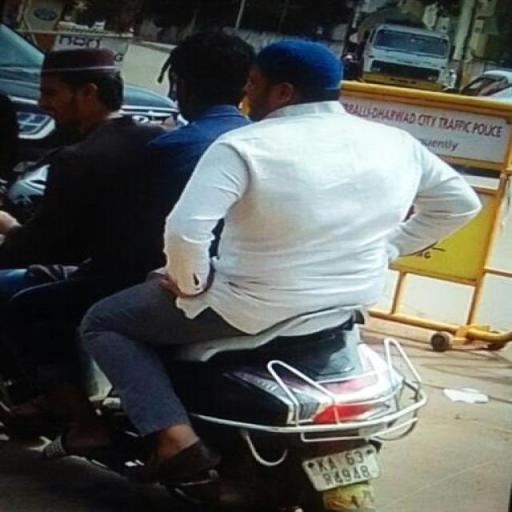tripple riding: (3, 30, 484, 340)
